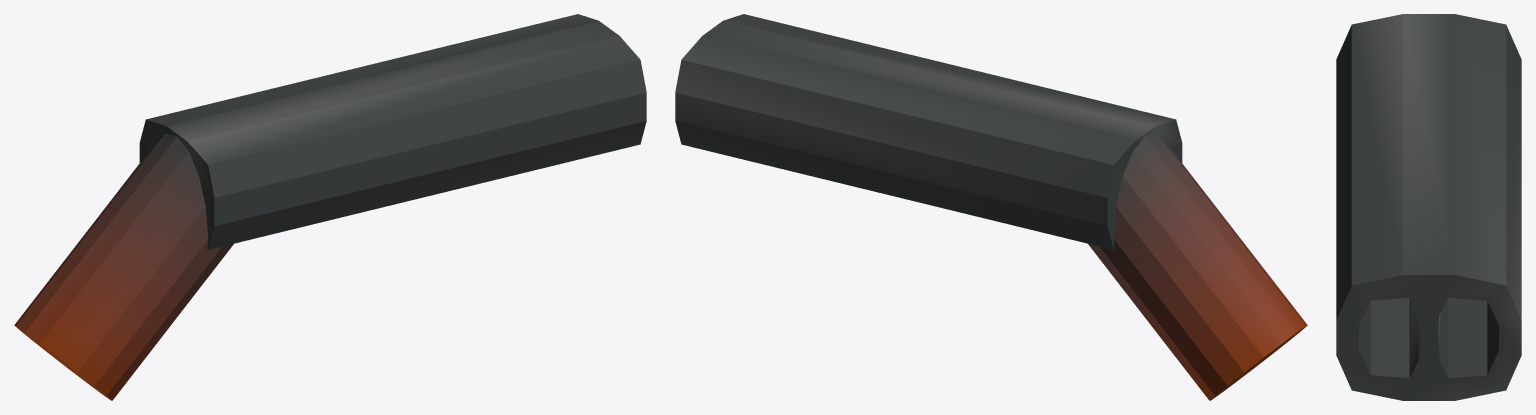
The model's file is ShotgunModel.fbx.
The picture shows the model from 3 angles, left to right: view 1: azimuth 30°, elevation 25°; view 2: azimuth 150°, elevation 25°; view 3: azimuth 270°, elevation 25°; orthographic projection. The views are drawn at different scales.
Visible parts, largest first — view 1: Cube; view 2: Cube; view 3: Cube.
Part boxes in pixels (x1=…): Cube: x1=14, y1=14, x2=646, y2=400; Cube: x1=675, y1=14, x2=1307, y2=400; Cube: x1=1336, y1=14, x2=1521, y2=400.
Size of the model in its own units: 270 by 107 by 60.
